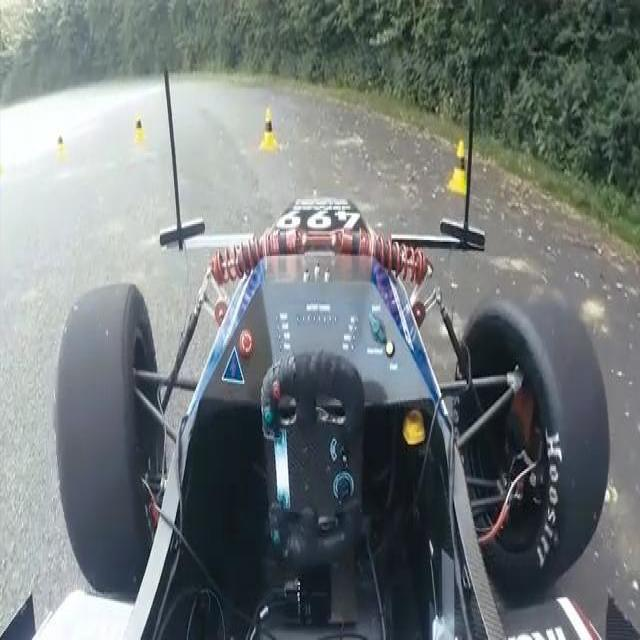yellow_cone: (443, 124, 476, 210), (252, 98, 282, 150), (47, 122, 70, 152), (132, 96, 149, 128)
